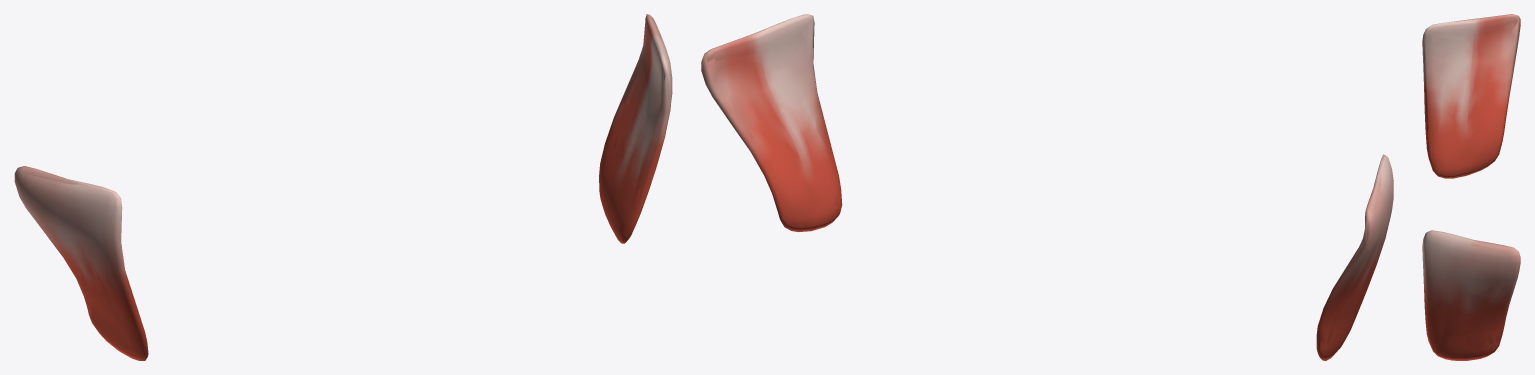
The model's file is Depressor palpebrae inferioris.fbx.
3 views of the same model, side by side, from view 1: azimuth 30°, elevation 25°; view 2: azimuth 150°, elevation 25°; view 3: azimuth 270°, elevation 25° (orthographic). The views are drawn at different scales.
Parts seen in each view (by area): view 1: Depressor palpebrae inferioris, Depressor palpebrae inferioris low; view 2: Depressor palpebrae inferioris, Depressor palpebrae inferioris low; view 3: Depressor palpebrae inferioris, Depressor palpebrae inferioris low.
Boxes of the visible parts, left/top/right/bottom form: Depressor palpebrae inferioris: left=14, top=14, right=672, bottom=360; Depressor palpebrae inferioris low: left=15, top=14, right=670, bottom=360; Depressor palpebrae inferioris: left=701, top=14, right=1393, bottom=360; Depressor palpebrae inferioris low: left=701, top=14, right=1391, bottom=360; Depressor palpebrae inferioris: left=1422, top=14, right=1520, bottom=360; Depressor palpebrae inferioris low: left=1423, top=14, right=1520, bottom=360.
Size of the model in its own units: 10.76 by 2.99 by 1.87.
1 material, 1 textured.
